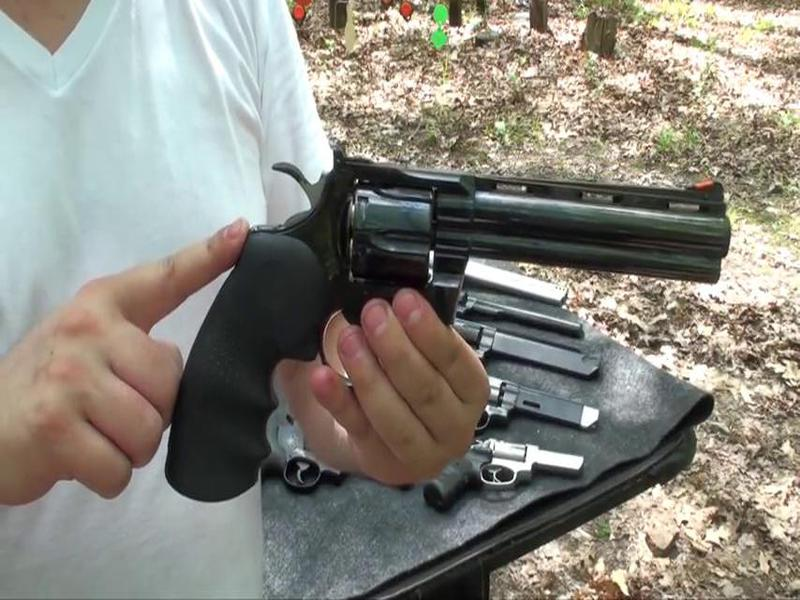Revolver: (154, 146, 747, 522)
